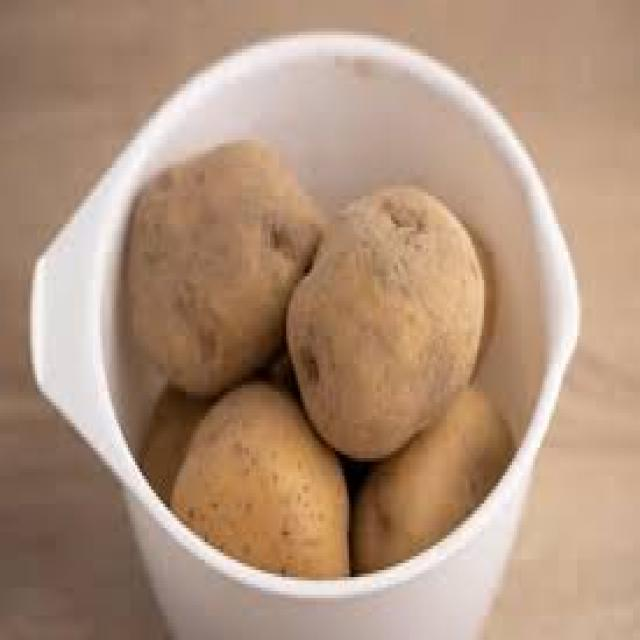organic waste: (286, 182, 484, 462), (123, 133, 328, 388), (165, 374, 349, 581), (346, 385, 509, 577), (135, 364, 296, 504)
